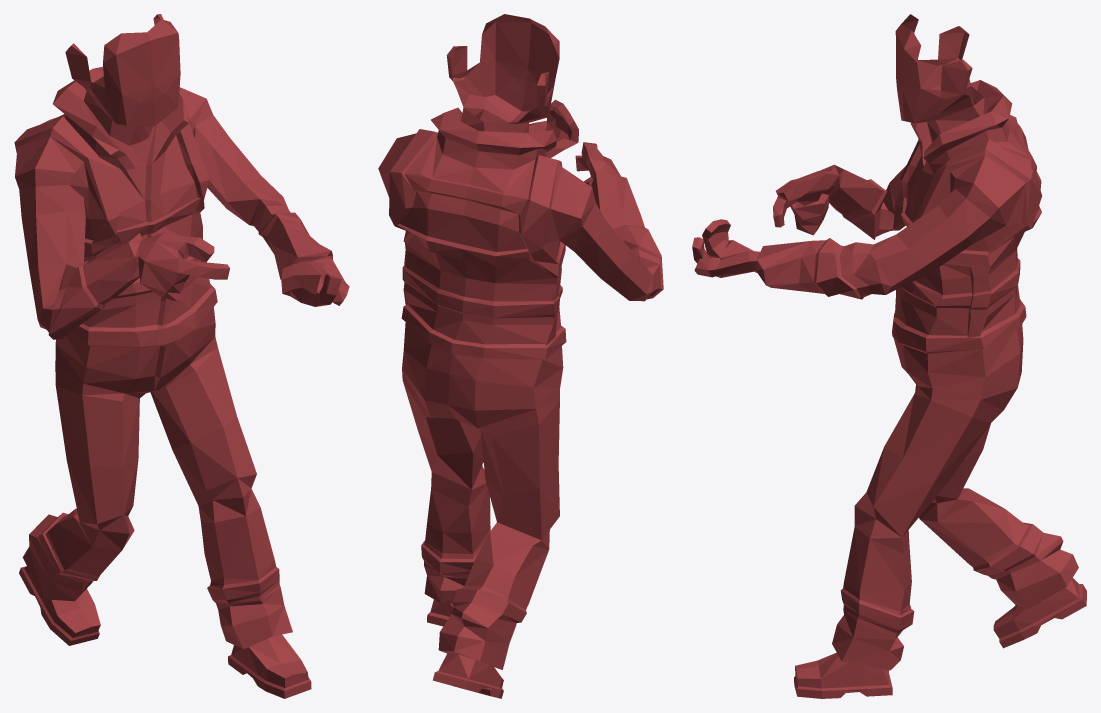
Rendered from Character0.fbx.
3 views of the same model, side by side, from view 1: azimuth 30°, elevation 25°; view 2: azimuth 150°, elevation 25°; view 3: azimuth 270°, elevation 25° (orthographic). The views are drawn at different scales.
Parts seen in each view (by area): view 1: 391-0-391; view 2: 391-0-391; view 3: 391-0-391.
Part boxes in pixels (x1,y1,x2,y2): 391-0-391: (14, 14, 349, 698); 391-0-391: (378, 14, 663, 698); 391-0-391: (692, 14, 1086, 698).
Bounding box in the file's own units: 66.67 × 168 × 96.09.
